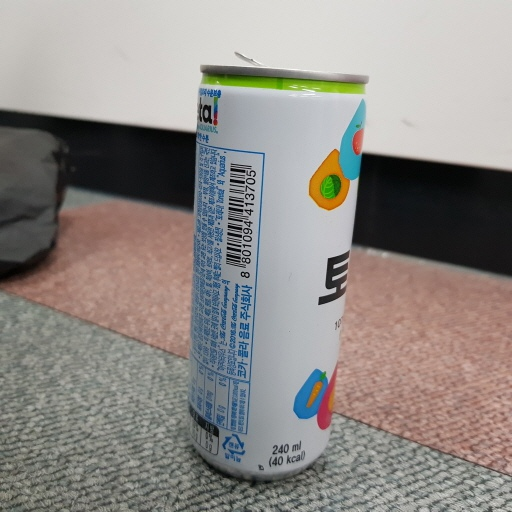Metal_0: (181, 48, 368, 475)
